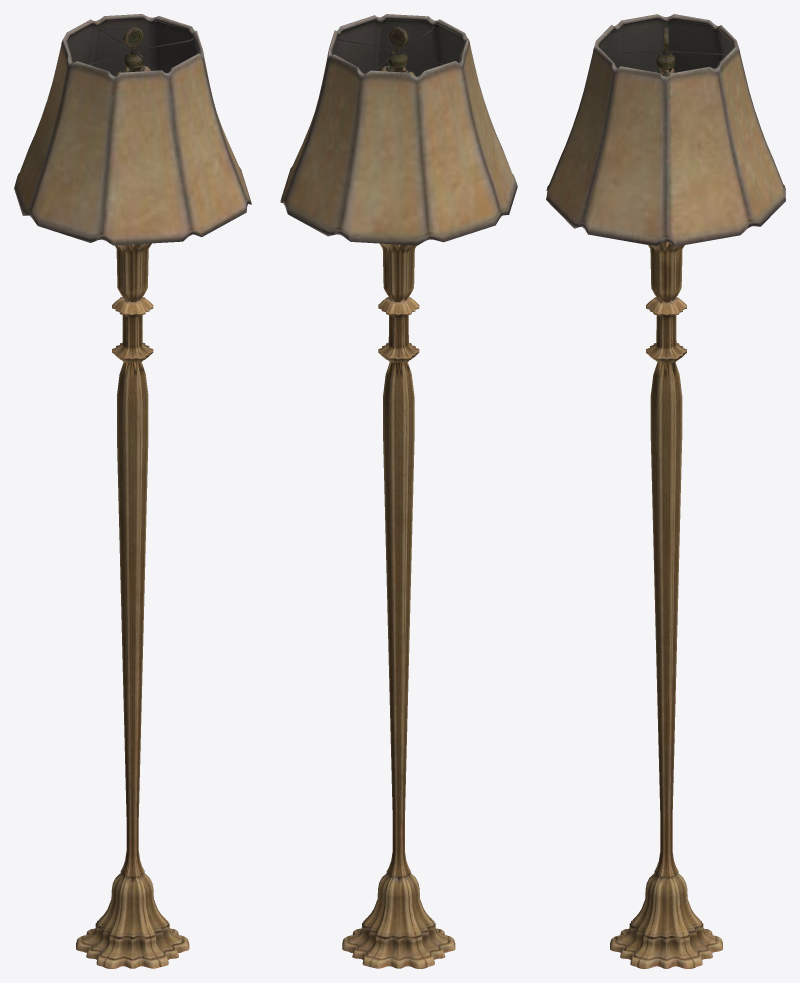
Rendered from floor-lamp-a.glb.
3 renders of one model, left to right at view 1: azimuth 30°, elevation 25°; view 2: azimuth 150°, elevation 25°; view 3: azimuth 270°, elevation 25°, orthographic.
Parts seen in each view (by area): view 1: Object_8; view 2: Object_8; view 3: Object_8.
Part boxes in pixels (bbox=[...]): Object_8: bbox=[14, 14, 251, 968]; Object_8: bbox=[280, 14, 517, 968]; Object_8: bbox=[546, 14, 785, 968].
Size of the model in its own units: 0.3836 by 1.62 by 0.382.
1 material, 1 textured.
